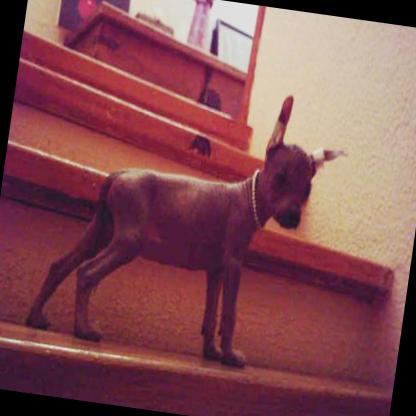Mexican_hairless: (19, 61, 356, 378)
